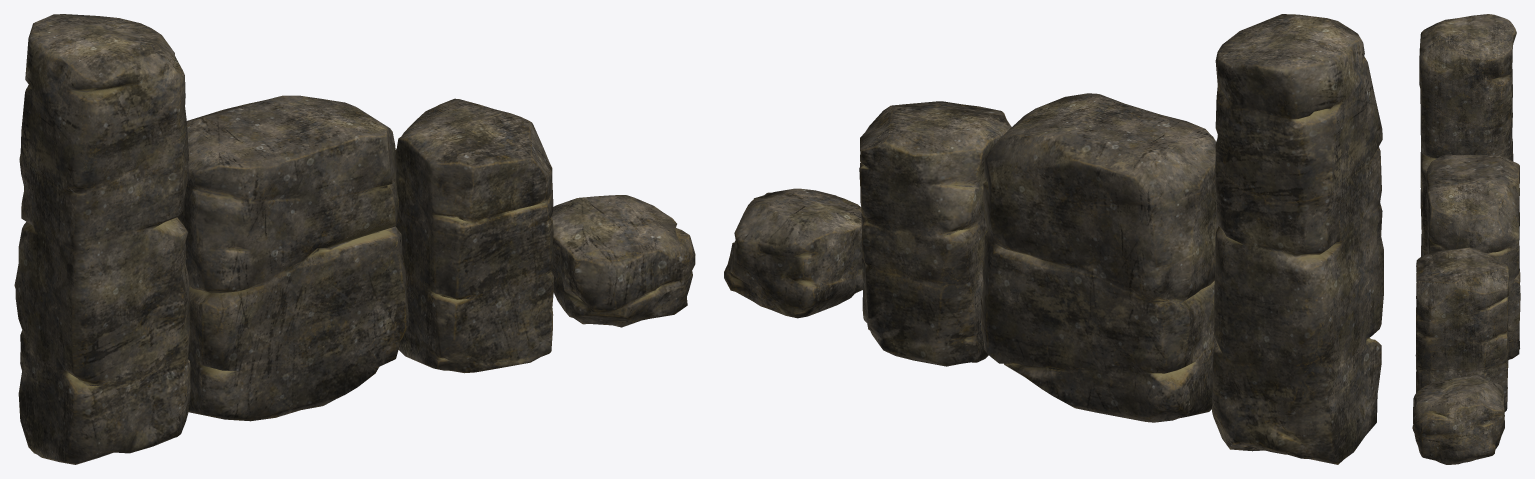
File: desert_rock_set.glb
The picture shows the model from 3 angles, left to right: view 1: azimuth 30°, elevation 25°; view 2: azimuth 150°, elevation 25°; view 3: azimuth 270°, elevation 25°; orthographic projection. The views are drawn at different scales.
Visible parts, largest first — view 1: rock3, rock2, rock1, rock4; view 2: rock3, rock2, rock1, rock4; view 3: rock3, rock1, rock2, rock4.
Part boxes in pixels (x1=…): rock3: x1=14, y1=14, x2=190, y2=464; rock2: x1=177, y1=95, x2=408, y2=421; rock1: x1=395, y1=98, x2=553, y2=373; rock4: x1=551, y1=195, x2=695, y2=327; rock3: x1=1212, y1=14, x2=1383, y2=464; rock2: x1=981, y1=93, x2=1218, y2=422; rock1: x1=859, y1=101, x2=1011, y2=366; rock4: x1=724, y1=188, x2=862, y2=318; rock3: x1=1419, y1=14, x2=1516, y2=256; rock1: x1=1415, y1=247, x2=1509, y2=411; rock2: x1=1426, y1=154, x2=1520, y2=359; rock4: x1=1412, y1=375, x2=1504, y2=464.
Bounding box in the file's own units: 16.36 × 10.33 × 3.73.
Materials: 1 (1 with a texture image).
